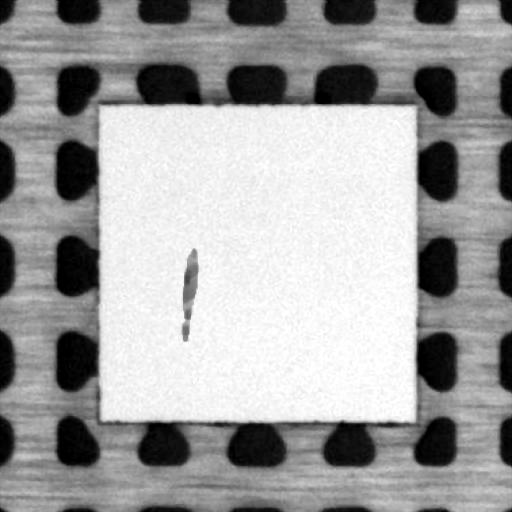DIE_INK: (169, 245, 199, 343)
